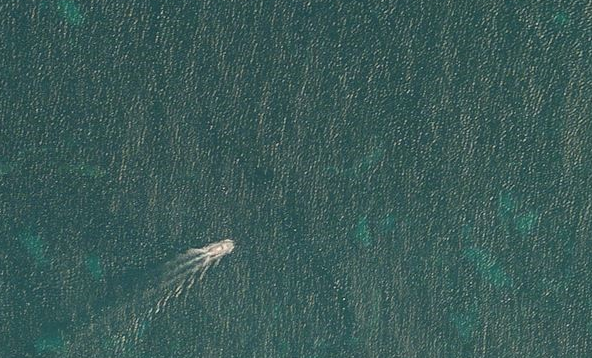ship: (201, 237, 238, 261)
